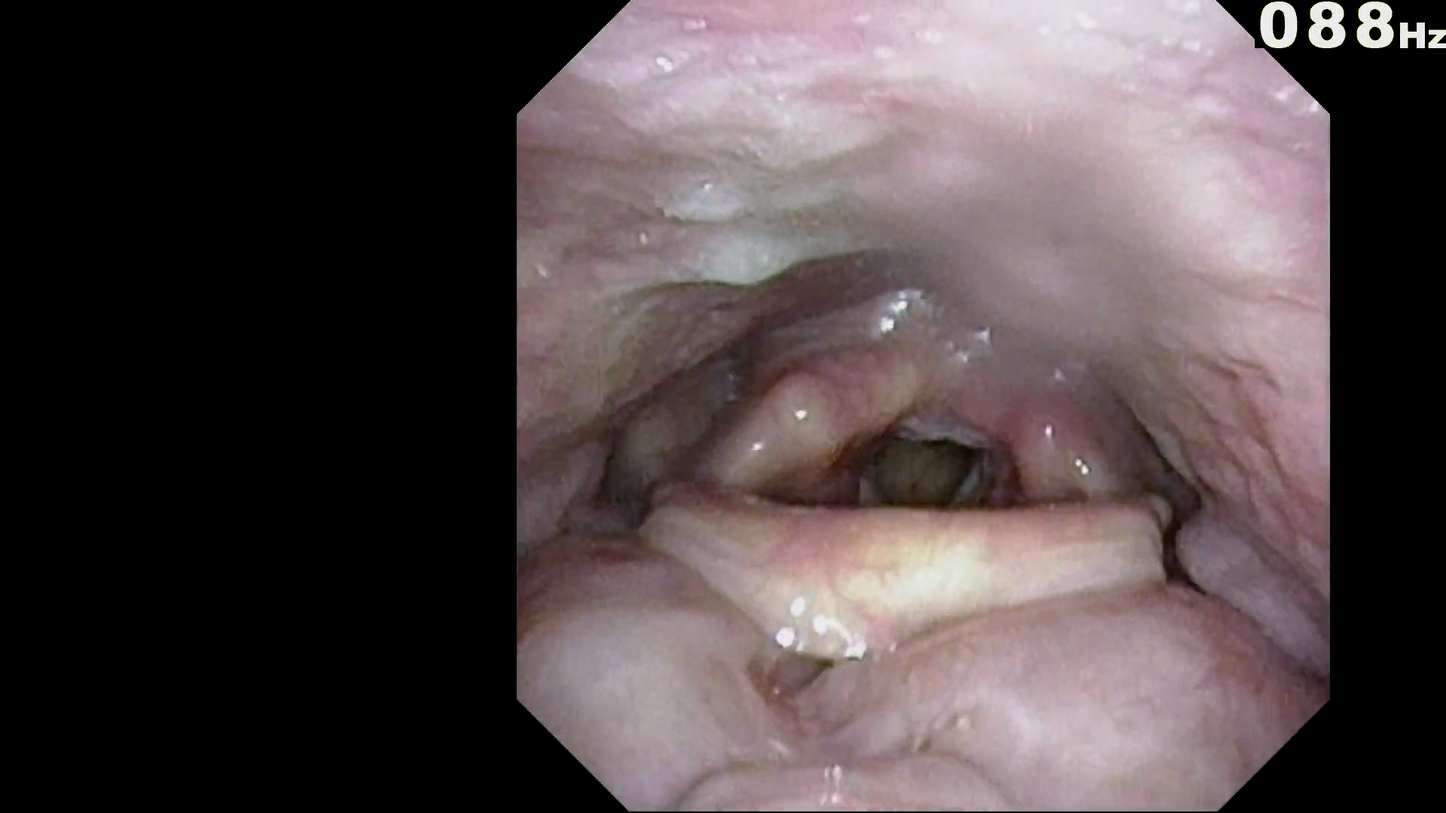epiglottis: (623, 490, 1182, 656)
trachea: (859, 417, 982, 514)
